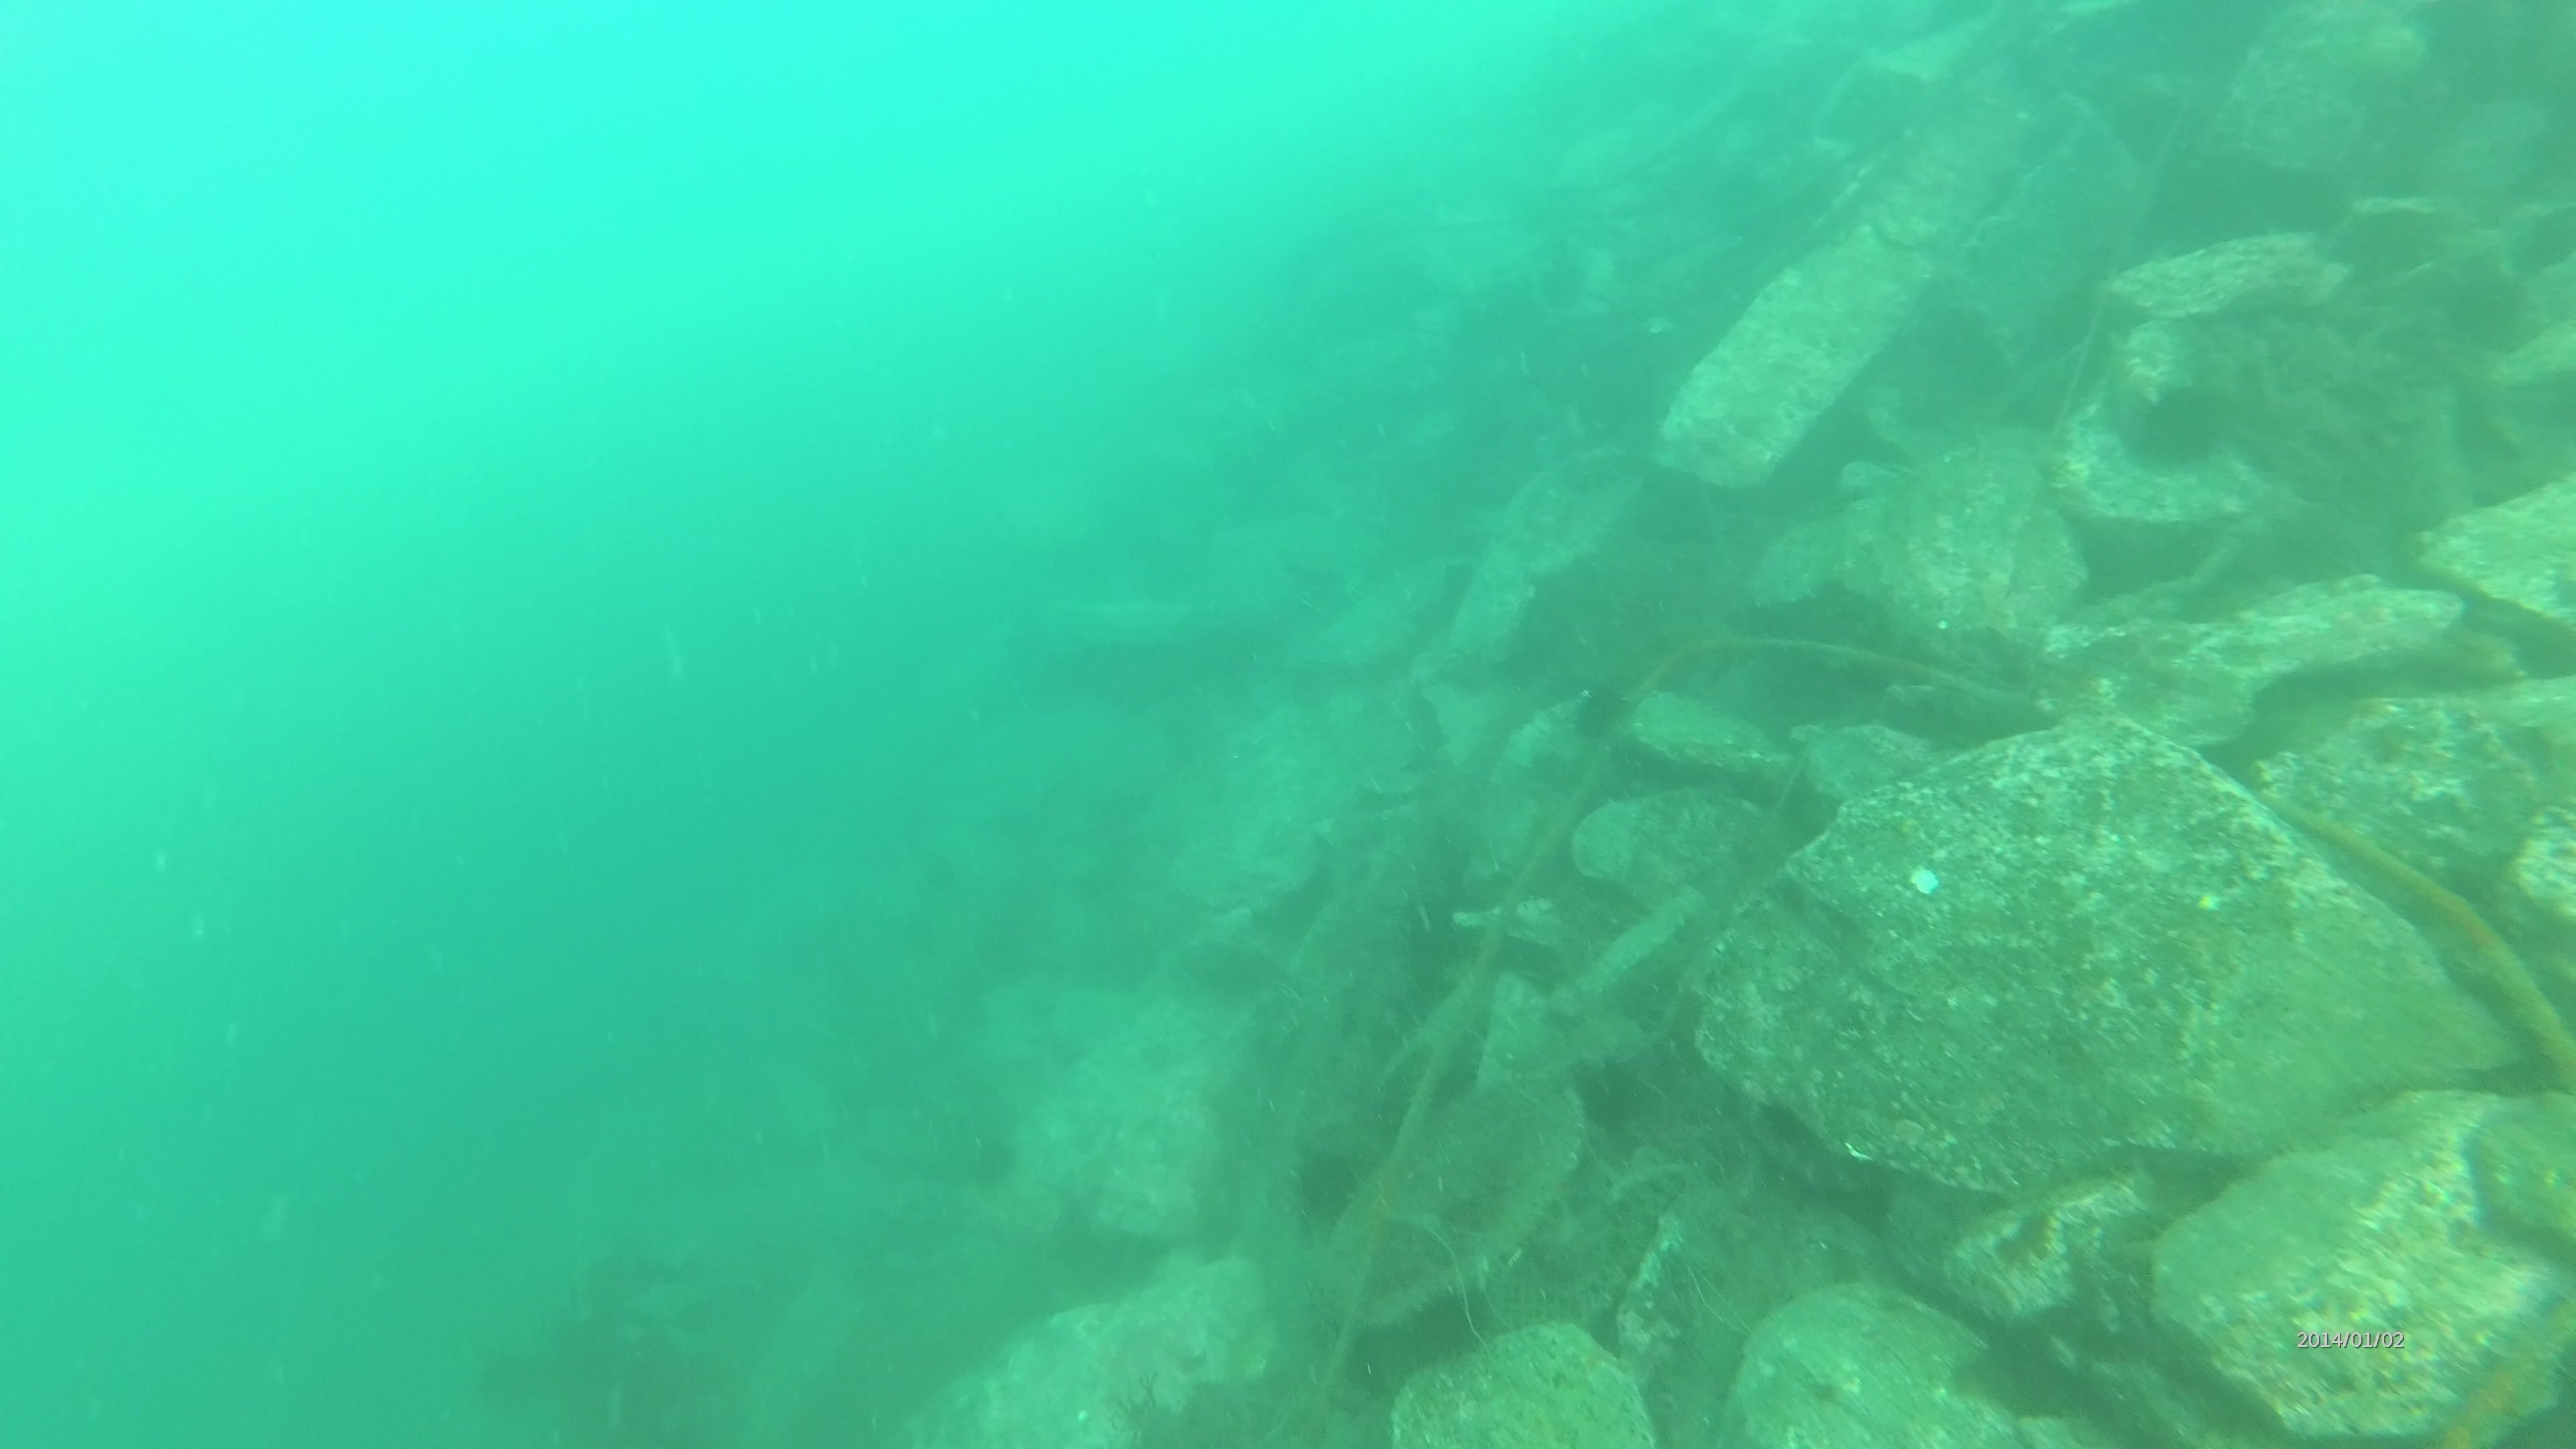echinus: (2118, 375, 2235, 479), (1281, 1134, 1371, 1235), (1562, 671, 1644, 748)
